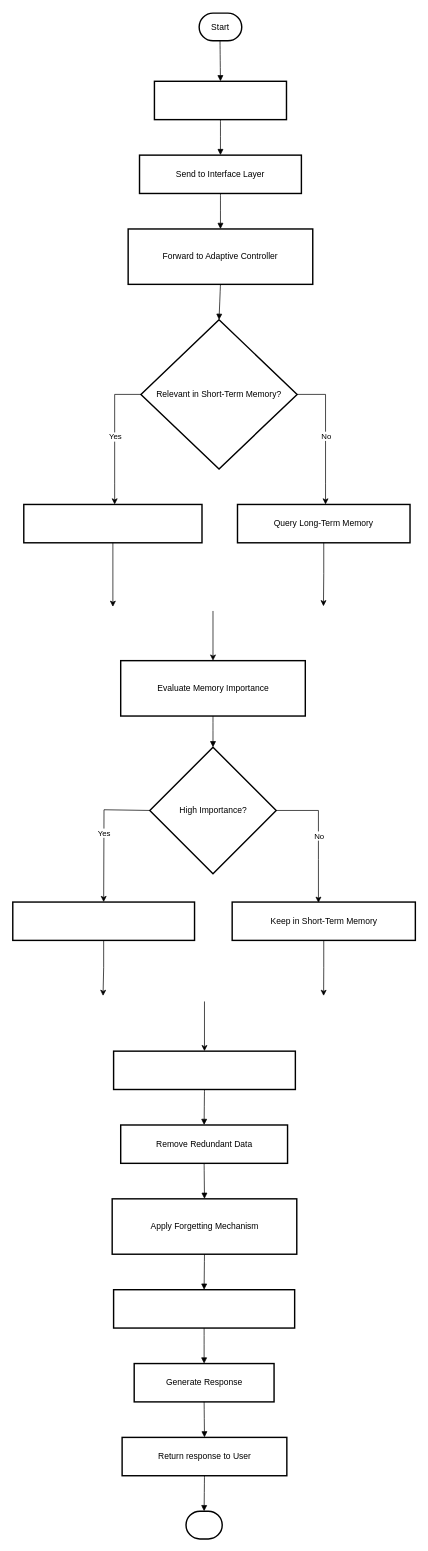
This 428x1551 diagram has some shape labels left out. Here are the shapes that lost their labels. From the top down, the centre of each, then its label:
At (220,100): "User inputs query".
At (112,523): "Retrieve context from STM".
At (103,921): "Store in Long-Term Memory".
At (204,1070): "Apply Memory Compression".
At (204,1308): "Decay Low-Priority Memory".
At (204,1524): "End".
